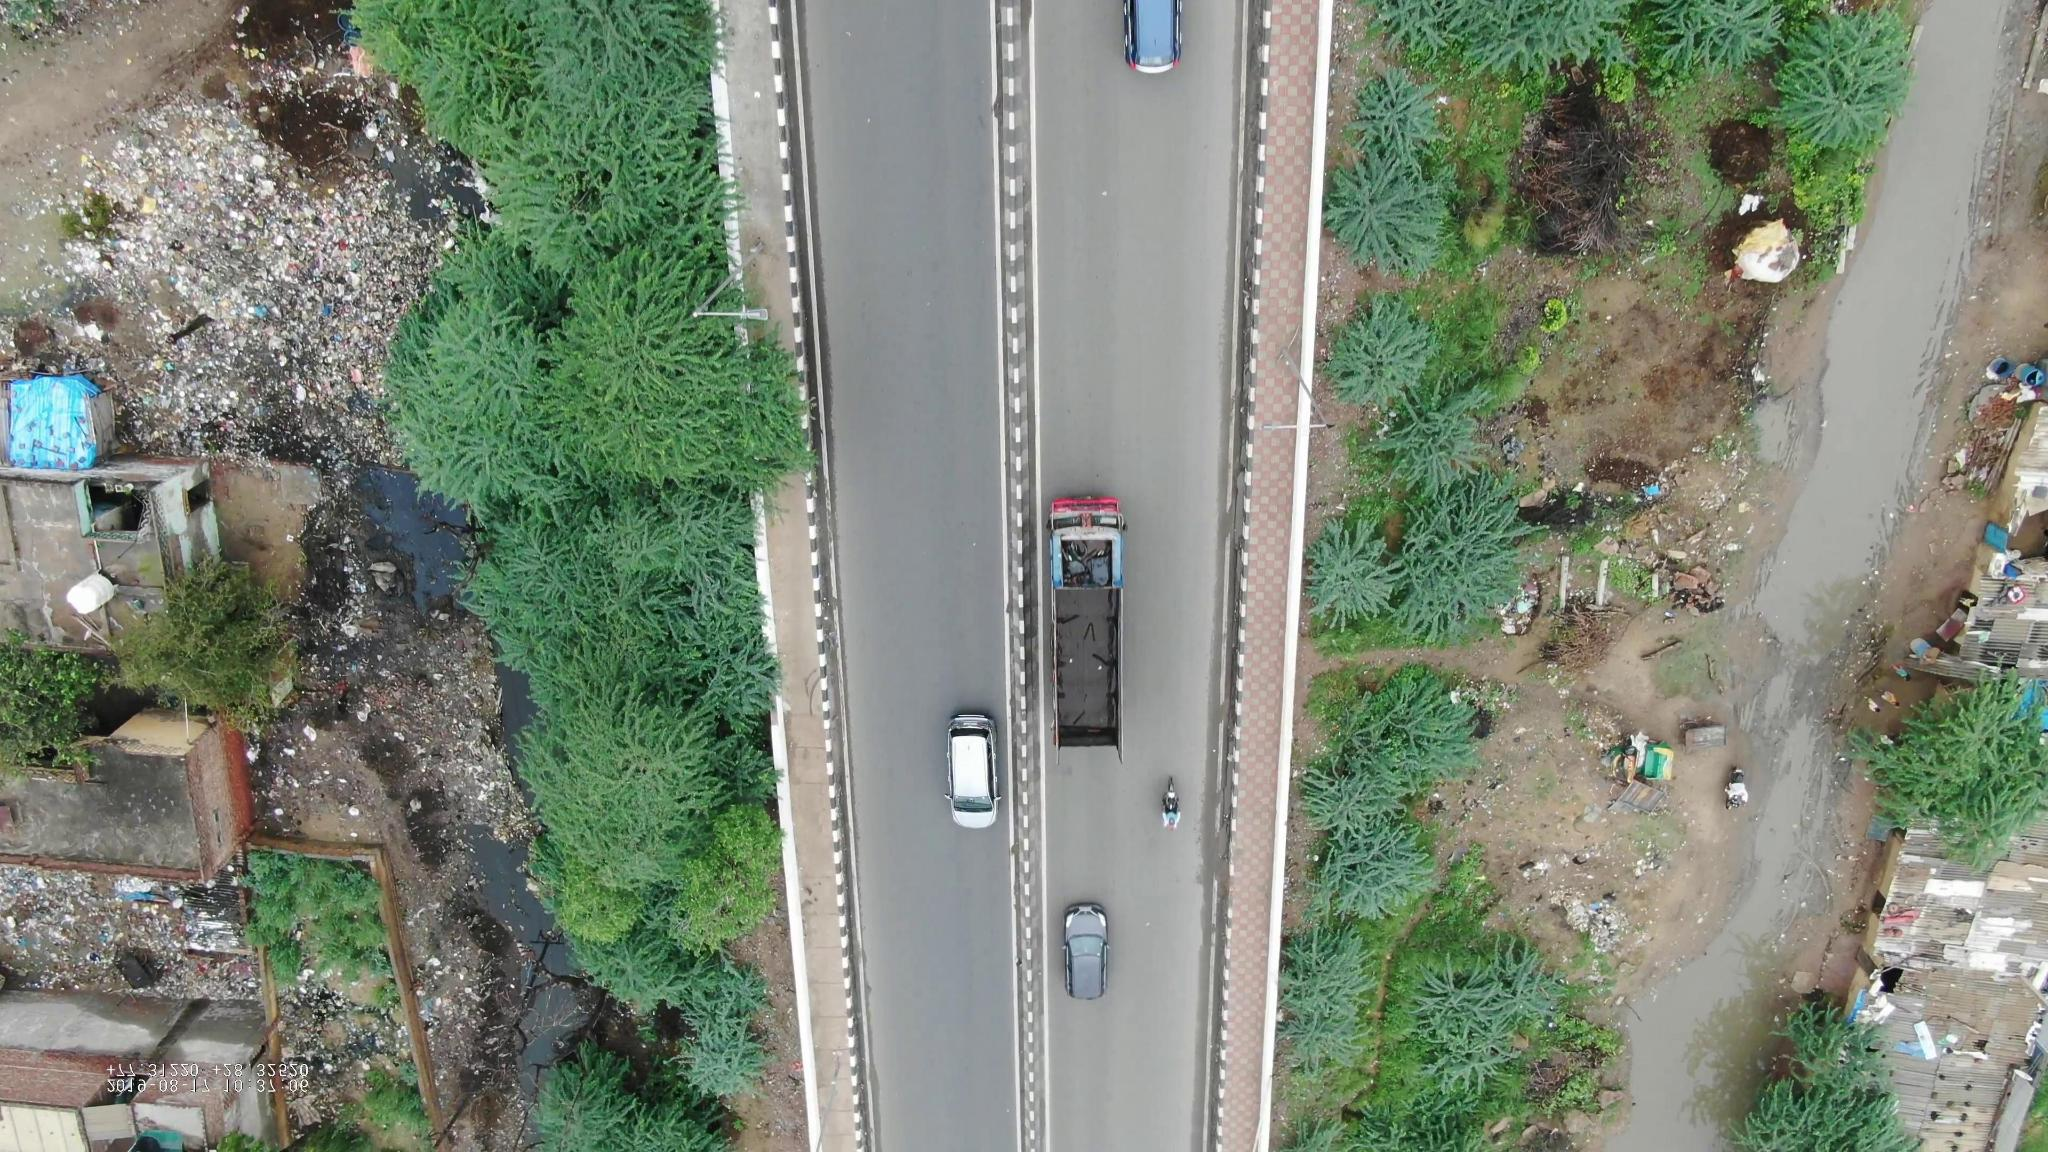Road_side_garbage: (62, 165, 452, 494)
